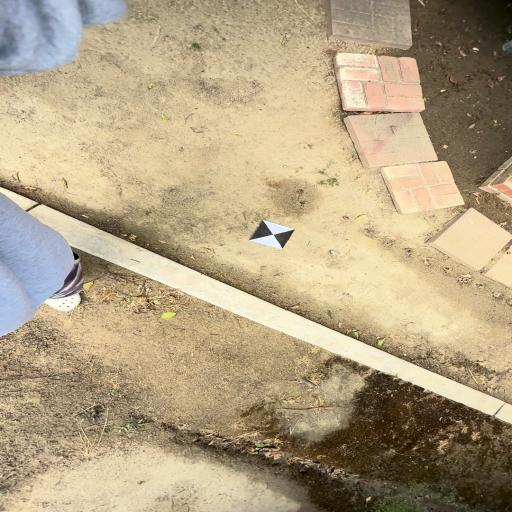target: (248, 220, 295, 249)
